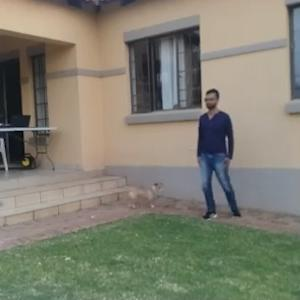follow: (192, 85, 238, 223)
